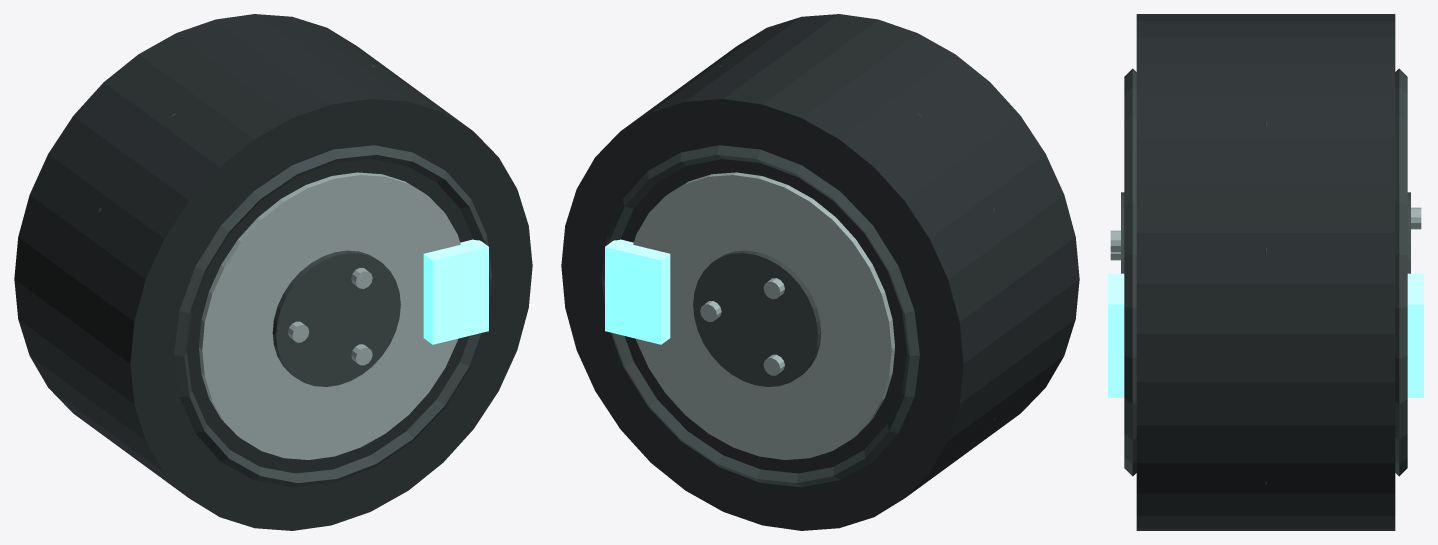
The model's file is wheel_standard.glb.
The picture shows the model from 3 angles, left to right: view 1: azimuth 30°, elevation 25°; view 2: azimuth 150°, elevation 25°; view 3: azimuth 270°, elevation 25°; orthographic projection. The views are drawn at different scales.
Visible parts, largest first — view 1: tire, rim, hub, sidewall_rings, rotation_witness_left, hub_fasteners; view 2: tire, rim, hub, sidewall_rings, rotation_witness_right, hub_fasteners; view 3: tire, sidewall_rings, rotation_witness_left, rotation_witness_right, hub, hub_fasteners.
Boxes of the visible parts, x1=… form: tire: x1=14, y1=14, x2=532, y2=530; rim: x1=199, y1=172, x2=460, y2=459; hub: x1=272, y1=250, x2=400, y2=386; sidewall_rings: x1=174, y1=145, x2=492, y2=487; rotation_witness_left: x1=423, y1=239, x2=488, y2=344; hub_fasteners: x1=288, y1=268, x2=372, y2=365; tire: x1=561, y1=14, x2=1079, y2=530; rim: x1=633, y1=172, x2=894, y2=459; hub: x1=693, y1=250, x2=821, y2=386; sidewall_rings: x1=601, y1=145, x2=919, y2=487; rotation_witness_right: x1=605, y1=239, x2=670, y2=344; hub_fasteners: x1=700, y1=278, x2=784, y2=375; tire: x1=1136, y1=14, x2=1395, y2=530; sidewall_rings: x1=1124, y1=68, x2=1407, y2=476; rotation_witness_left: x1=1108, y1=273, x2=1124, y2=397; rotation_witness_right: x1=1407, y1=273, x2=1423, y2=397; hub: x1=1121, y1=192, x2=1410, y2=273; hub_fasteners: x1=1110, y1=207, x2=1421, y2=260.
Bounding box in the file's own units: 0.2 × 0.2 × 0.122.
